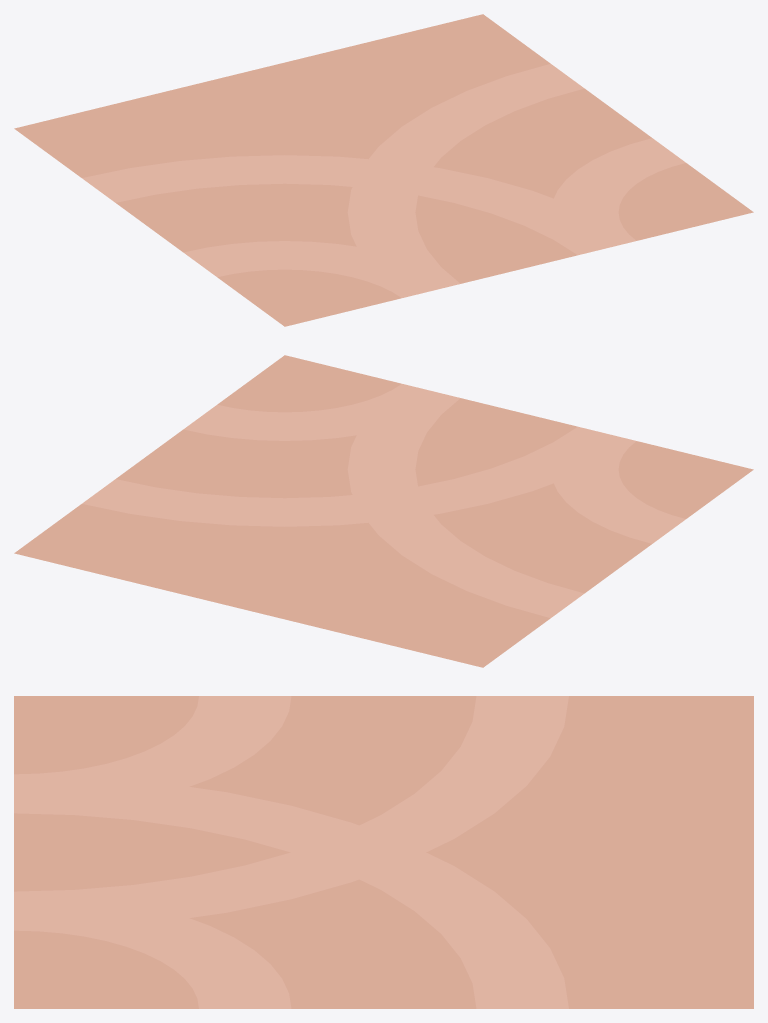
Rendered from terrain_roadSplit.glb.
3 renders of one model, top to bottom at view 1: azimuth 30°, elevation 25°; view 2: azimuth 150°, elevation 25°; view 3: azimuth 270°, elevation 25°, orthographic. The views are drawn at different scales.
Parts seen in each view (by area): view 1: terrain_roadSplit; view 2: terrain_roadSplit; view 3: terrain_roadSplit.
Boxes of the visible parts, x1,y1,x2,y2 form: terrain_roadSplit: [14, 14, 753, 326]; terrain_roadSplit: [14, 355, 753, 667]; terrain_roadSplit: [14, 696, 753, 1008].
Bounding box in the file's own units: 1 × 4.8e-17 × 1.
